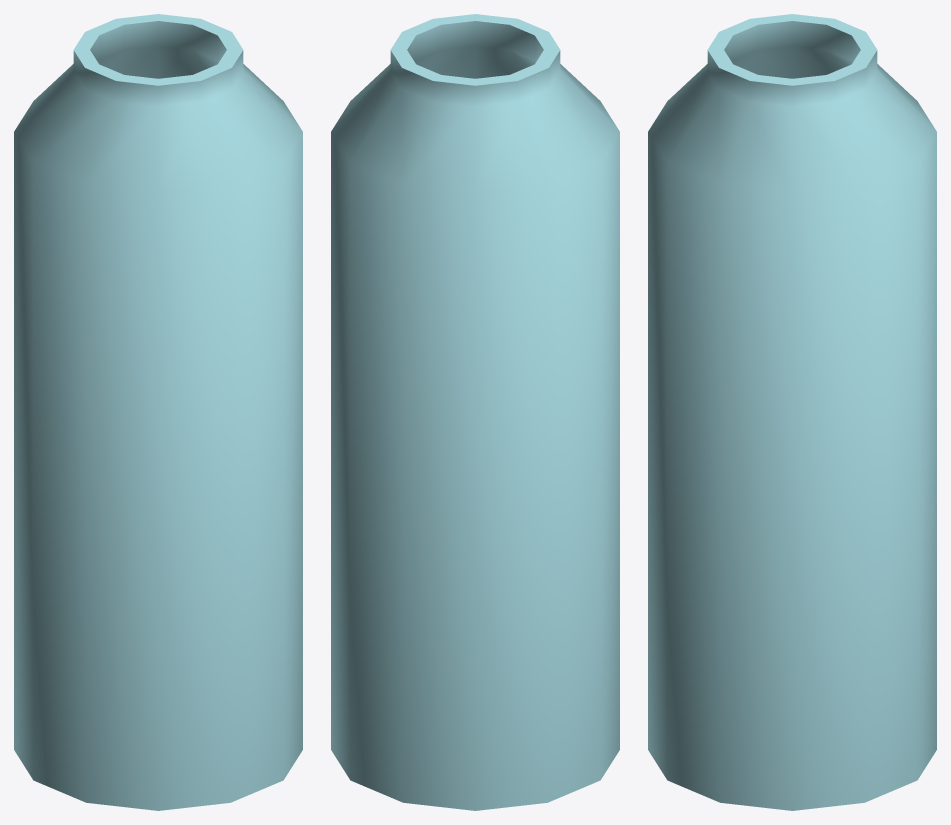
Rendered from JarEmpty2.fbx.
3 renders of one model, left to right at view 1: azimuth 30°, elevation 25°; view 2: azimuth 150°, elevation 25°; view 3: azimuth 270°, elevation 25°, orthographic.
Parts seen in each view (by area): view 1: JarEmpty2; view 2: JarEmpty2; view 3: JarEmpty2.
Boxes of the visible parts, left/top/right/bottom form: JarEmpty2: left=14, top=14, right=302, bottom=810; JarEmpty2: left=331, top=14, right=619, bottom=810; JarEmpty2: left=648, top=14, right=936, bottom=810.
Bounding box in the file's own units: 7.47 × 19.98 × 7.47.
